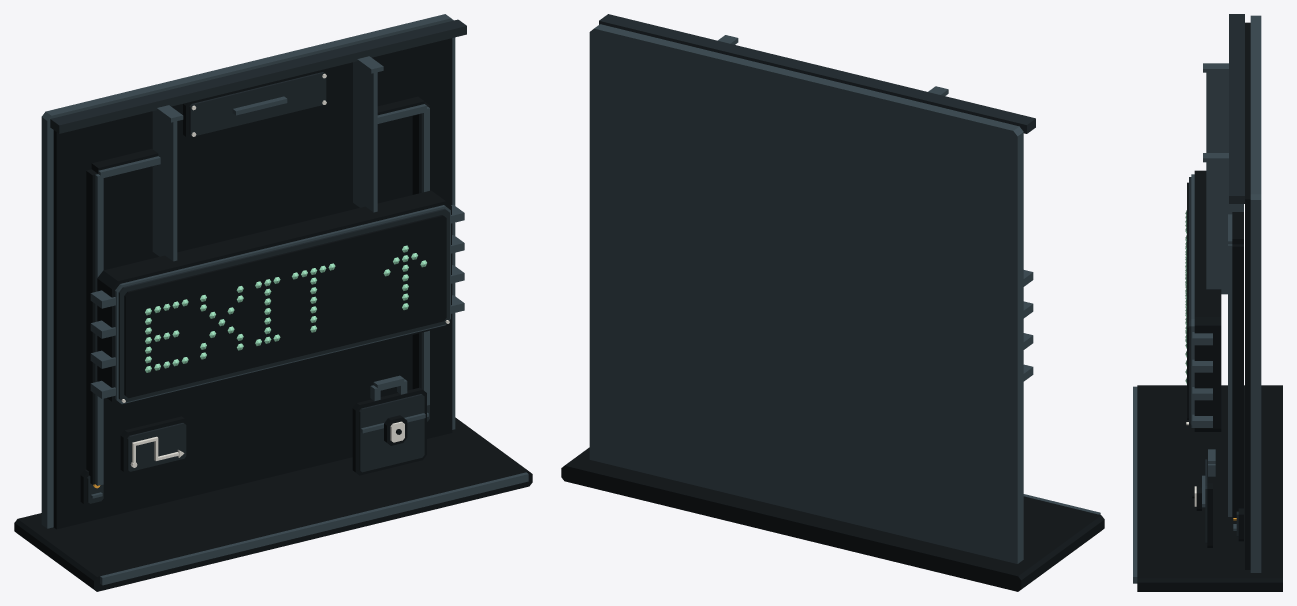
3 renders of one model, left to right at view 1: azimuth 30°, elevation 25°; view 2: azimuth 150°, elevation 25°; view 3: azimuth 270°, elevation 25°, orthographic. The views are drawn at different scales.
Parts seen in each view (by area): view 1: Exit Liquidity sign; view 2: Exit Liquidity sign; view 3: Exit Liquidity sign.
Part boxes in pixels (<box>): Exit Liquidity sign: <box>14,14,532,591</box>; Exit Liquidity sign: <box>561,14,1104,591</box>; Exit Liquidity sign: <box>1133,14,1282,591</box>.
Size of the model in its own units: 1.08 by 1 by 0.3475.
